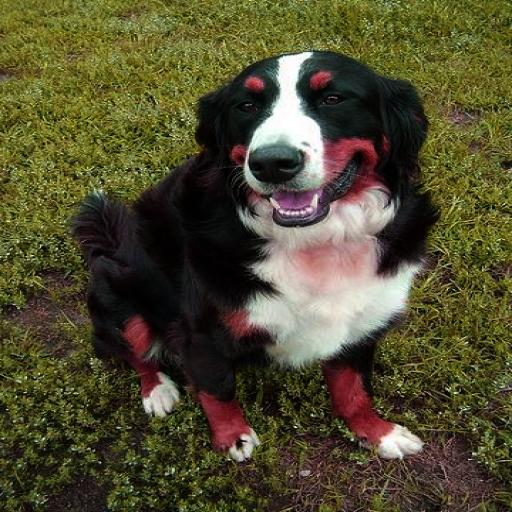dog_face: (189, 45, 414, 226)
